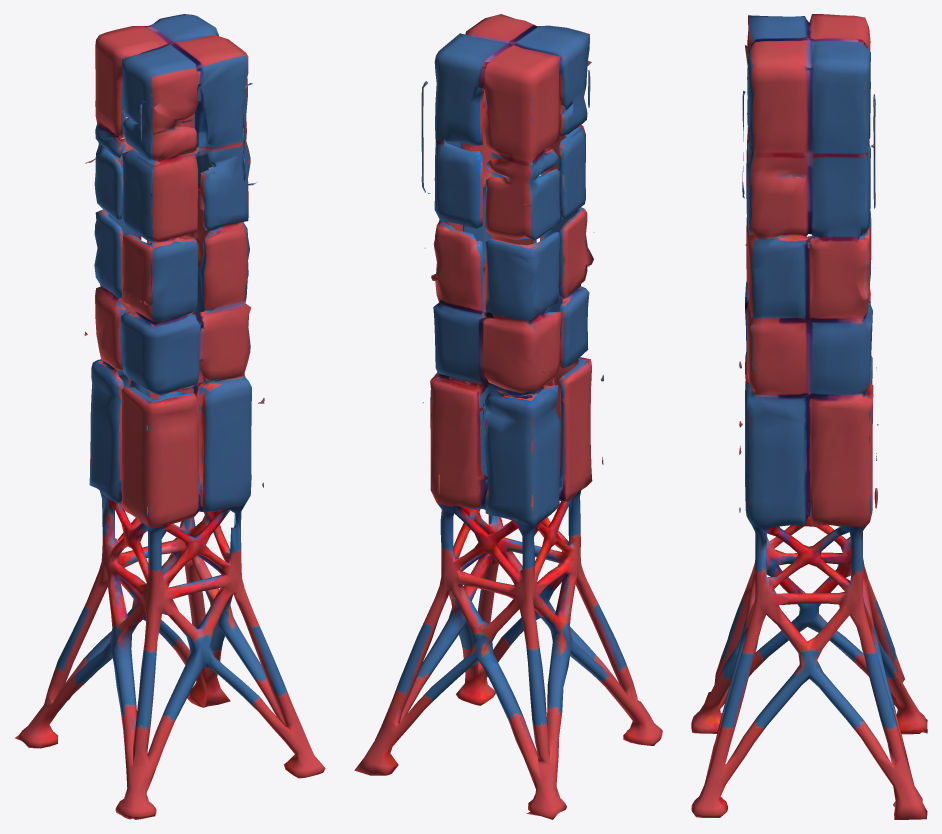
The model's file is CommunicationTower.fbx.
The picture shows the model from 3 angles, left to right: view 1: azimuth 30°, elevation 25°; view 2: azimuth 150°, elevation 25°; view 3: azimuth 270°, elevation 25°; orthographic projection. The views are drawn at different scales.
Visible parts, largest first — view 1: tripo_node_1f162bf8; view 2: tripo_node_1f162bf8; view 3: tripo_node_1f162bf8.
Boxes of the visible parts, x1,y1,x2,y2 form: tripo_node_1f162bf8: [14, 14, 325, 819]; tripo_node_1f162bf8: [354, 14, 662, 819]; tripo_node_1f162bf8: [691, 14, 927, 819].
Bounding box in the file's own units: 26.52 × 90.43 × 26.47.
Materials: 1 (1 with a texture image).
